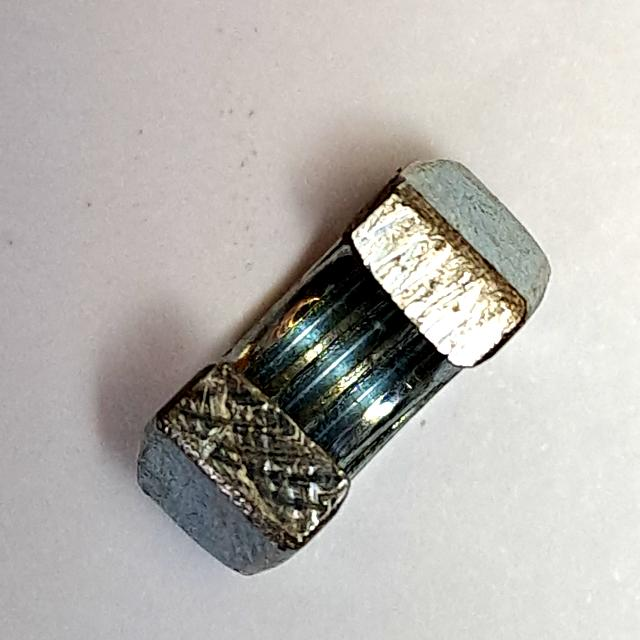Side-Fracture: (128, 147, 567, 587)
